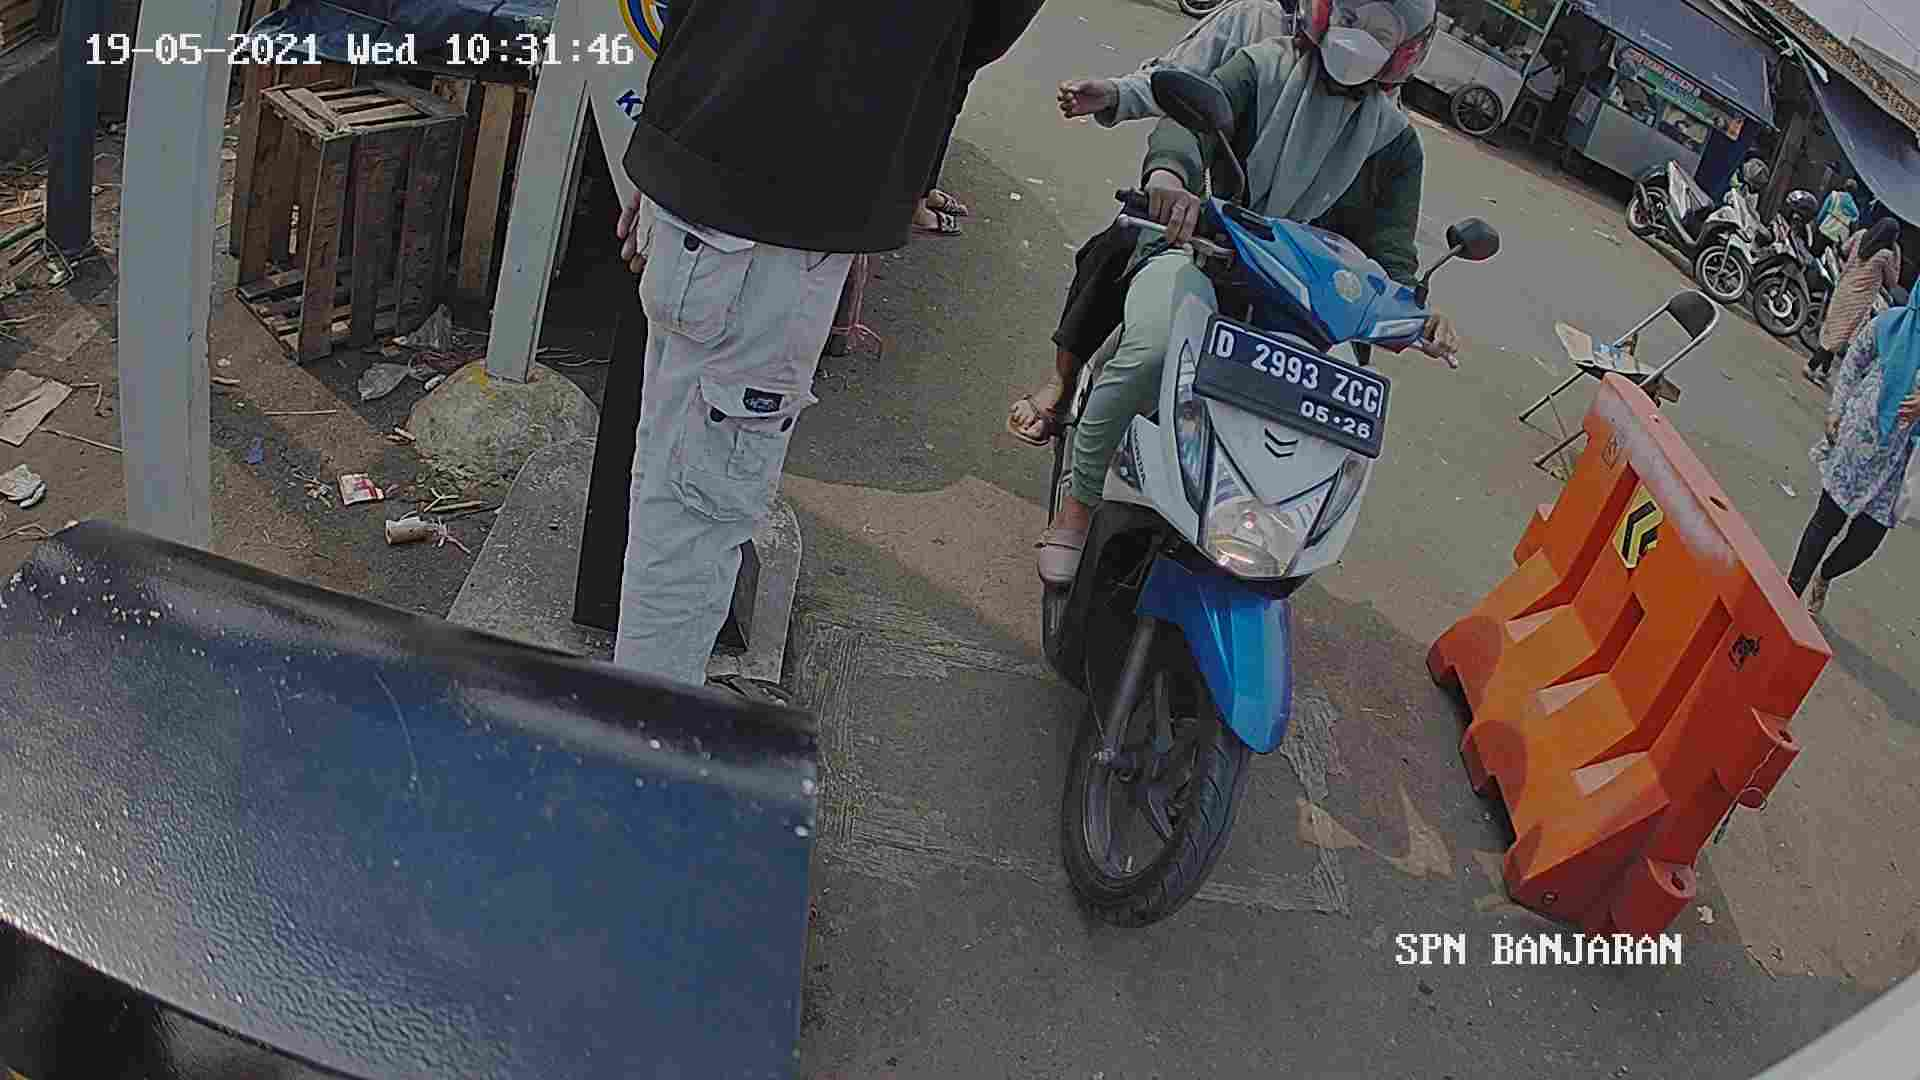motor: (992, 164, 1365, 923)
